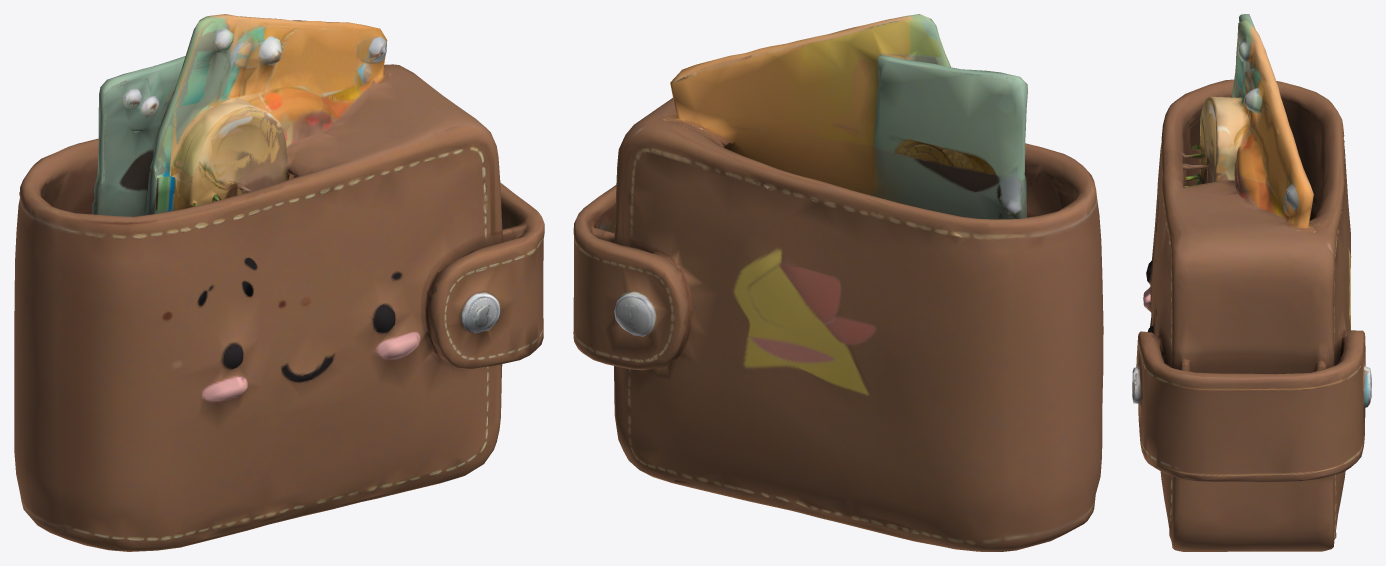
The model's file is wallet.glb.
3 renders of one model, left to right at view 1: azimuth 30°, elevation 25°; view 2: azimuth 150°, elevation 25°; view 3: azimuth 270°, elevation 25°, orthographic. The views are drawn at different scales.
Size of the model in its own units: 65606 by 63283 by 31492.
1 material, 1 textured.
